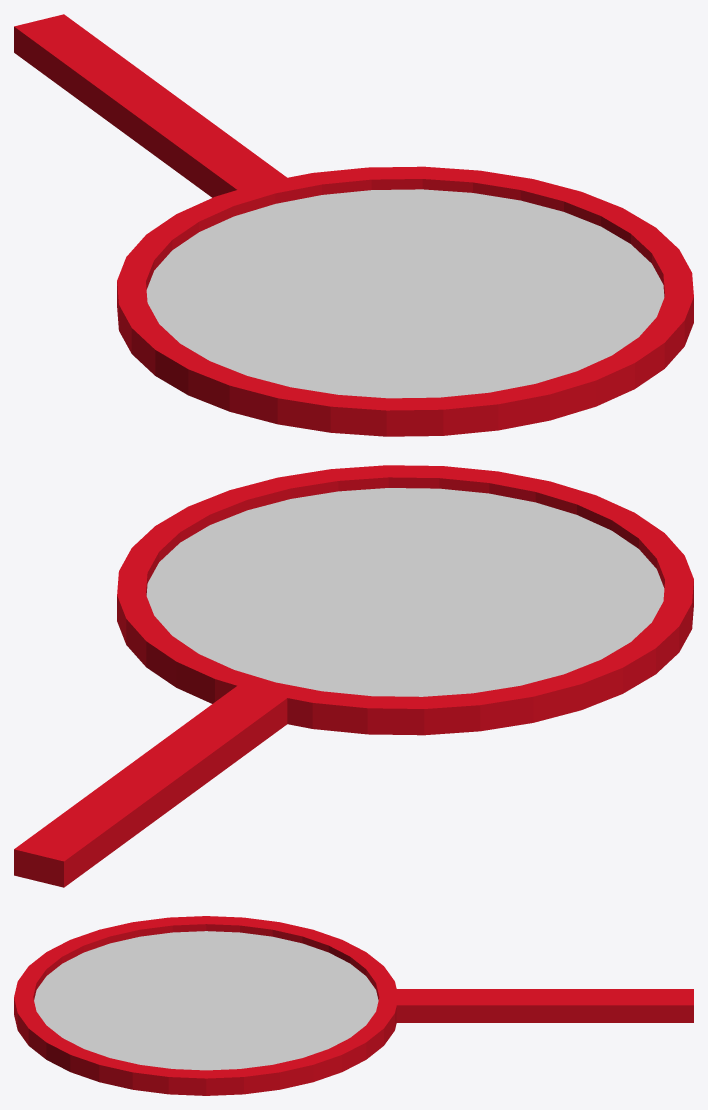
Rendered from poi.fbx.
3 views of the same model, one above another, from view 1: azimuth 30°, elevation 25°; view 2: azimuth 150°, elevation 25°; view 3: azimuth 270°, elevation 25° (orthographic). The views are drawn at different scales.
Visible parts, largest first — view 1: plastic; view 2: plastic; view 3: plastic.
Boxes of the visible parts, left/top/right/bottom form: plastic: left=14, top=14, right=693, bottom=436; plastic: left=14, top=465, right=693, bottom=887; plastic: left=14, top=916, right=693, bottom=1095.
Bounding box in the file's own units: 200 × 354 × 10.
